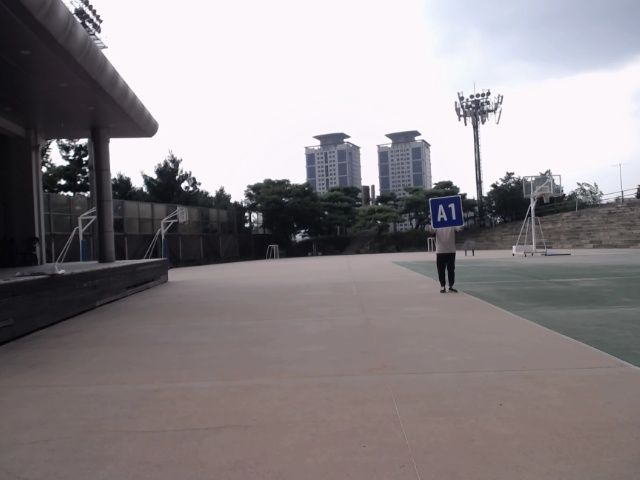delivery_a1: (429, 195, 464, 229)
